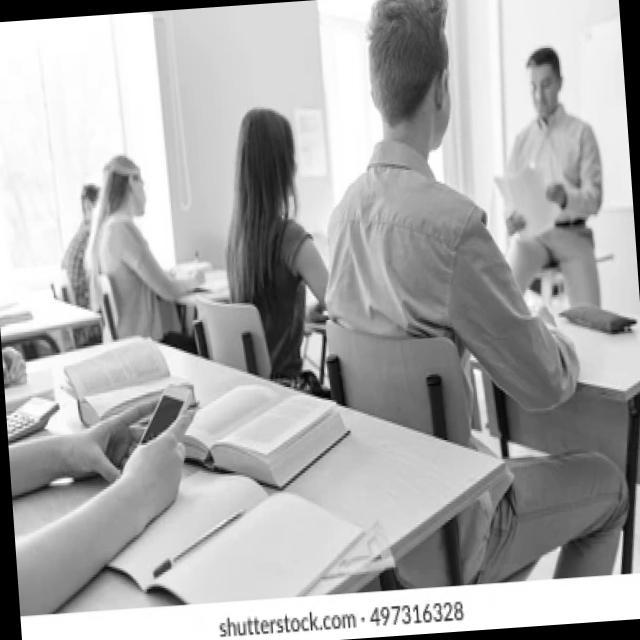phone: (132, 380, 195, 444), (5, 391, 60, 445)
